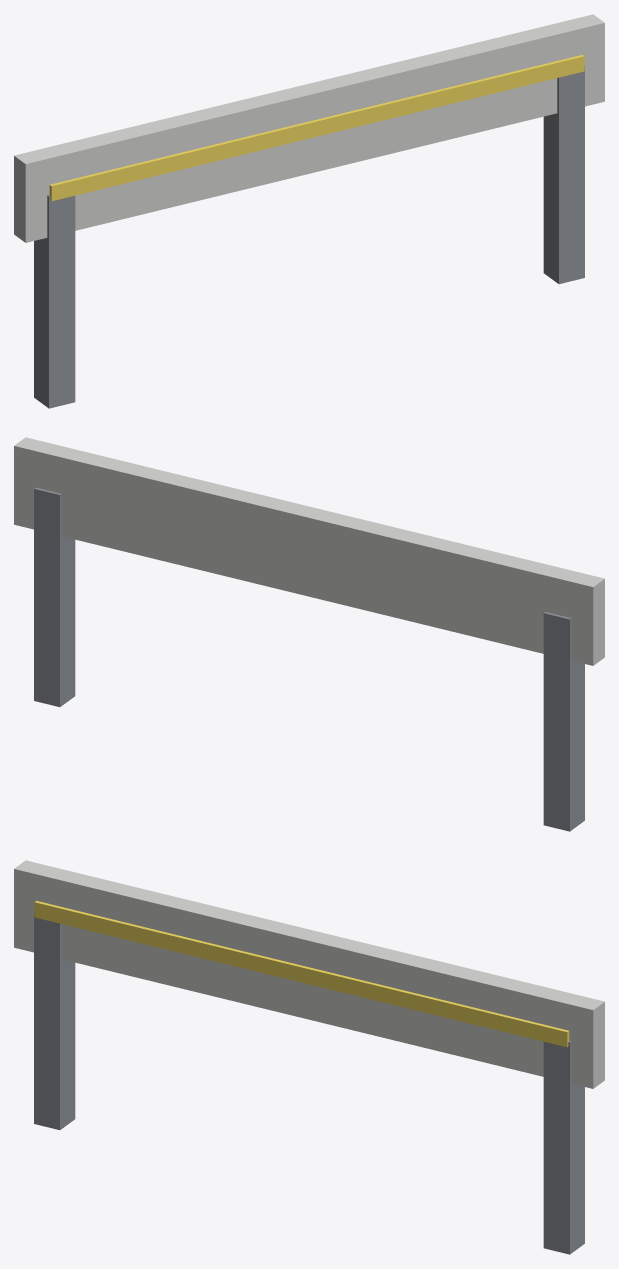
Rendered from prop-guardrail.glb.
The picture shows the model from 3 angles, top to bottom: view 1: azimuth 30°, elevation 25°; view 2: azimuth 150°, elevation 25°; view 3: azimuth 330°, elevation 25°; orthographic projection.
Parts seen in each view (by area): view 1: rail-beam, rail-posts, rail-reflect; view 2: rail-beam, rail-posts; view 3: rail-beam, rail-posts, rail-reflect.
Boxes of the visible parts, left/top/right/bottom form: rail-beam: left=14, top=14, right=604, bottom=242; rail-posts: left=34, top=66, right=584, bottom=408; rail-reflect: left=49, top=55, right=584, bottom=201; rail-beam: left=14, top=437, right=604, bottom=665; rail-posts: left=34, top=487, right=584, bottom=831; rail-beam: left=14, top=860, right=604, bottom=1088; rail-posts: left=34, top=912, right=584, bottom=1254; rail-reflect: left=34, top=901, right=569, bottom=1047.
Bounding box in the file's own units: 2 × 0.82 × 0.096.
